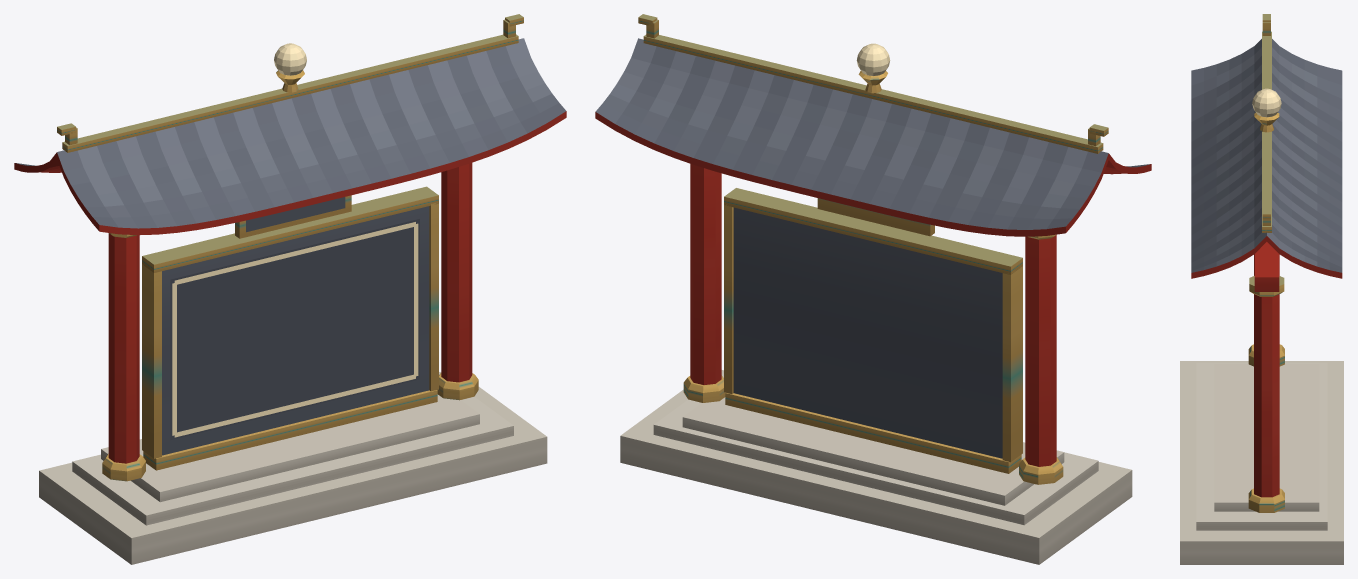
The model's file is Yggdrasil_Stele.fbx.
3 views of the same model, side by side, from view 1: azimuth 30°, elevation 25°; view 2: azimuth 150°, elevation 25°; view 3: azimuth 270°, elevation 25° (orthographic). The views are drawn at different scales.
Parts seen in each view (by area): view 1: YG_Stele, YG_SteleGlow; view 2: YG_Stele, YG_SteleGlow; view 3: YG_Stele, YG_SteleGlow.
Part boxes in pixels (x1,y1,x2,y2): YG_Stele: (14, 14, 566, 564); YG_SteleGlow: (172, 43, 418, 437); YG_Stele: (595, 14, 1151, 564); YG_SteleGlow: (856, 43, 890, 76); YG_Stele: (1180, 14, 1343, 564); YG_SteleGlow: (1252, 88, 1281, 117).
Bounding box in the file's own units: 29.2 × 25.9 × 10.
Materials: 1 (1 with a texture image).
